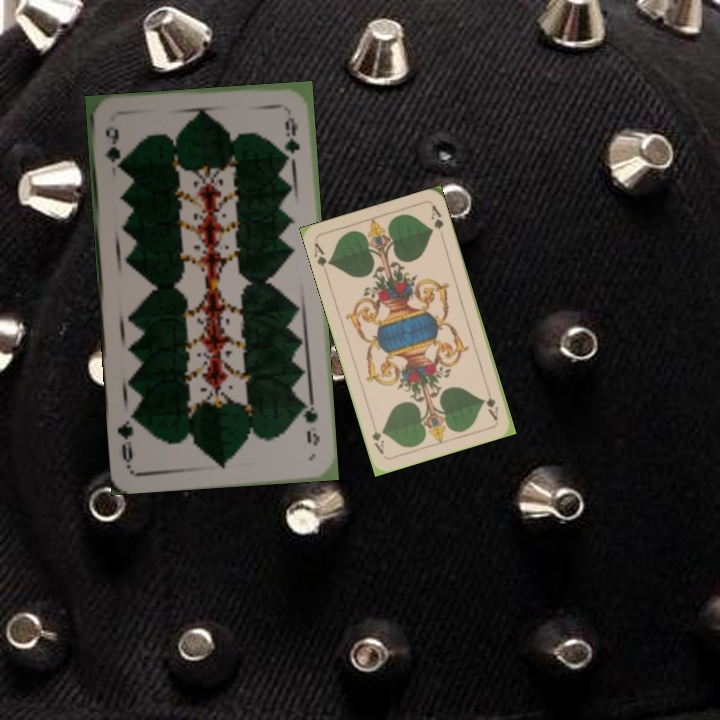G9: (298, 396, 322, 448), (100, 124, 124, 173)
GA: (481, 383, 501, 423), (310, 238, 334, 269)
